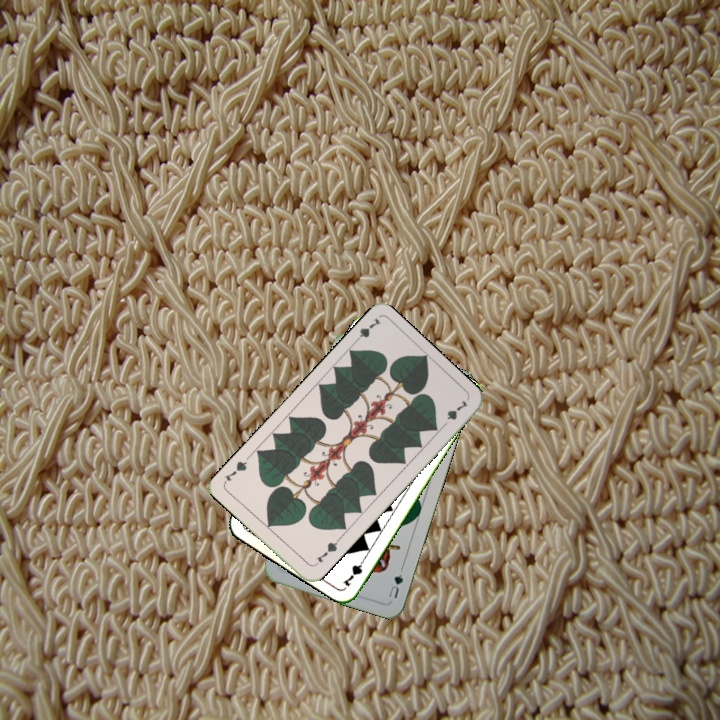G7: (349, 314, 383, 347), (339, 552, 369, 589), (310, 536, 341, 569)
GU: (384, 570, 406, 601)
